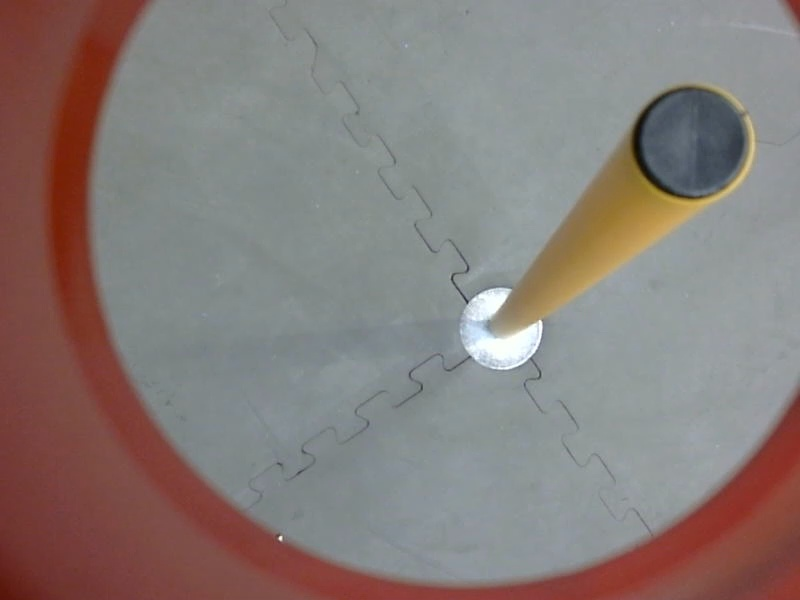tip: (621, 75, 766, 210)
